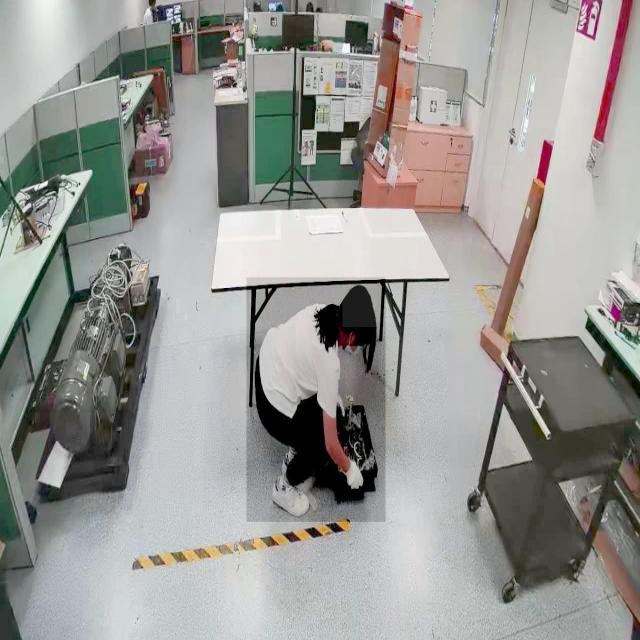hand_glove: (343, 460, 365, 498)
head_nohelmet: (342, 284, 377, 328)
person: (246, 277, 386, 523)
shoes: (269, 473, 311, 517)
